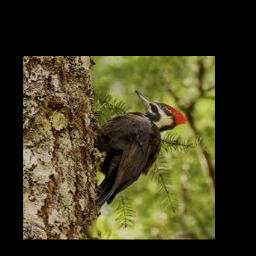Woodpecker: (94, 90, 186, 207)
